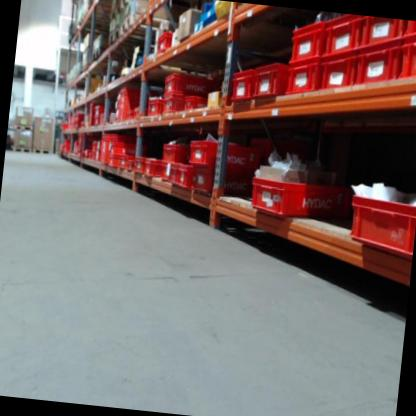pallet: (119, 11, 177, 43), (120, 0, 163, 13), (108, 24, 121, 47), (91, 47, 104, 62), (31, 146, 51, 155), (13, 123, 33, 132), (12, 146, 31, 154)
small_load_carrier: (342, 185, 416, 261), (247, 171, 345, 224), (352, 39, 404, 95), (186, 137, 258, 171), (191, 164, 255, 202), (316, 11, 361, 64), (355, 15, 403, 59), (286, 15, 327, 64), (319, 50, 358, 96), (250, 57, 287, 99), (282, 60, 322, 97), (162, 71, 214, 97), (115, 84, 147, 125), (228, 66, 255, 106), (401, 32, 416, 88), (159, 90, 187, 117), (159, 141, 187, 164), (175, 163, 197, 189), (158, 162, 179, 187), (98, 132, 112, 169), (109, 141, 144, 155), (145, 93, 164, 118), (184, 92, 207, 112), (153, 30, 172, 51), (141, 160, 162, 177), (400, 23, 416, 43), (132, 155, 144, 175), (132, 105, 146, 122), (120, 155, 135, 170), (124, 107, 137, 123), (107, 154, 121, 166), (93, 104, 104, 118), (98, 116, 109, 128), (91, 151, 101, 164), (94, 140, 103, 153), (92, 117, 102, 126), (127, 160, 135, 171)
